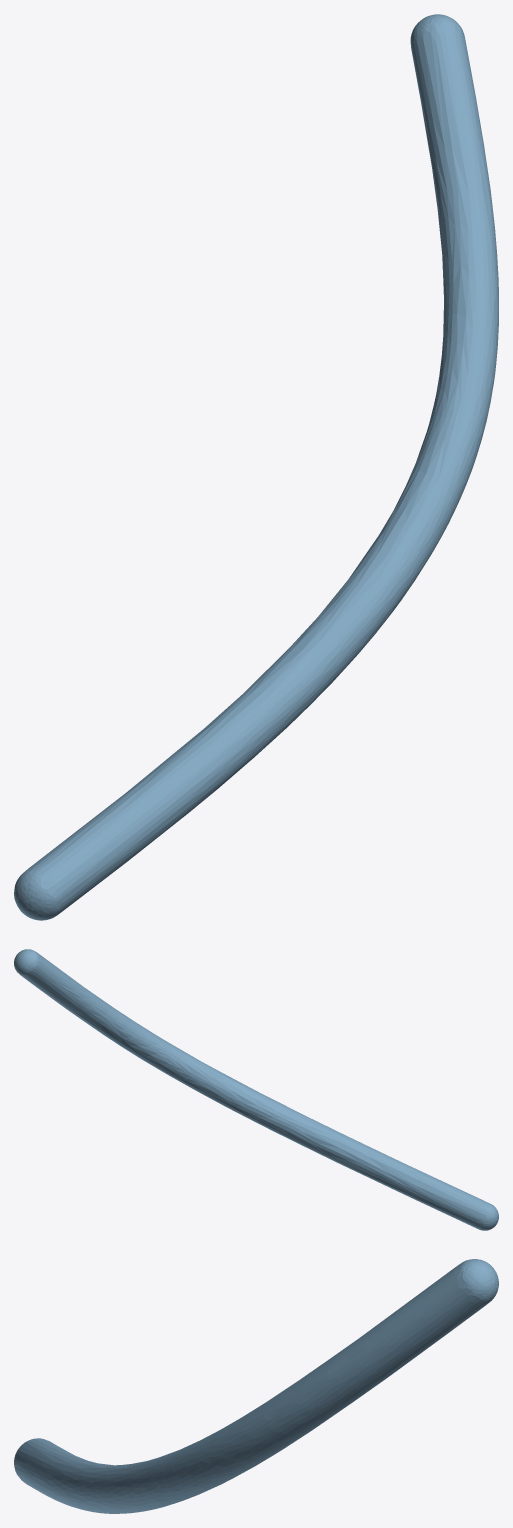
File: elbow-vein.glb
3 renders of one model, top to bottom at view 1: azimuth 30°, elevation 25°; view 2: azimuth 150°, elevation 25°; view 3: azimuth 270°, elevation 25°, orthographic. The views are drawn at different scales.
Visible parts, largest first — view 1: median-cubital-vein__BP5931; view 2: median-cubital-vein__BP5931; view 3: median-cubital-vein__BP5931.
Part boxes in pixels (x1,y1,x2,y2): median-cubital-vein__BP5931: [14, 14, 498, 920]; median-cubital-vein__BP5931: [14, 949, 498, 1230]; median-cubital-vein__BP5931: [14, 1259, 498, 1513].
Bounding box in the file's own units: 0.5043 × 0.3948 × 0.3457.
